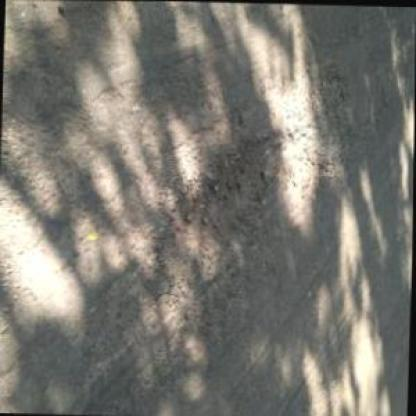pothole: (169, 126, 286, 262)
